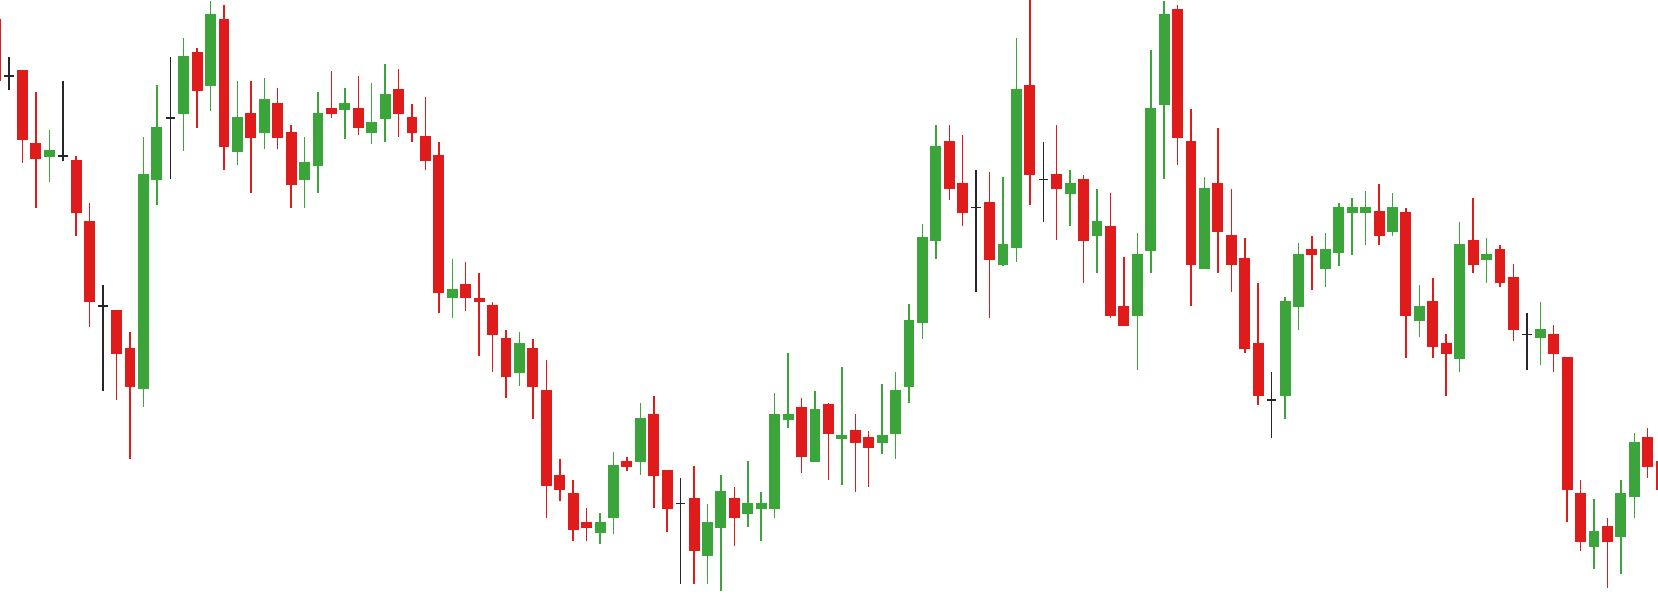buy: (564, 437, 715, 596)
sell: (55, 3, 231, 254), (1009, 3, 1189, 226)
